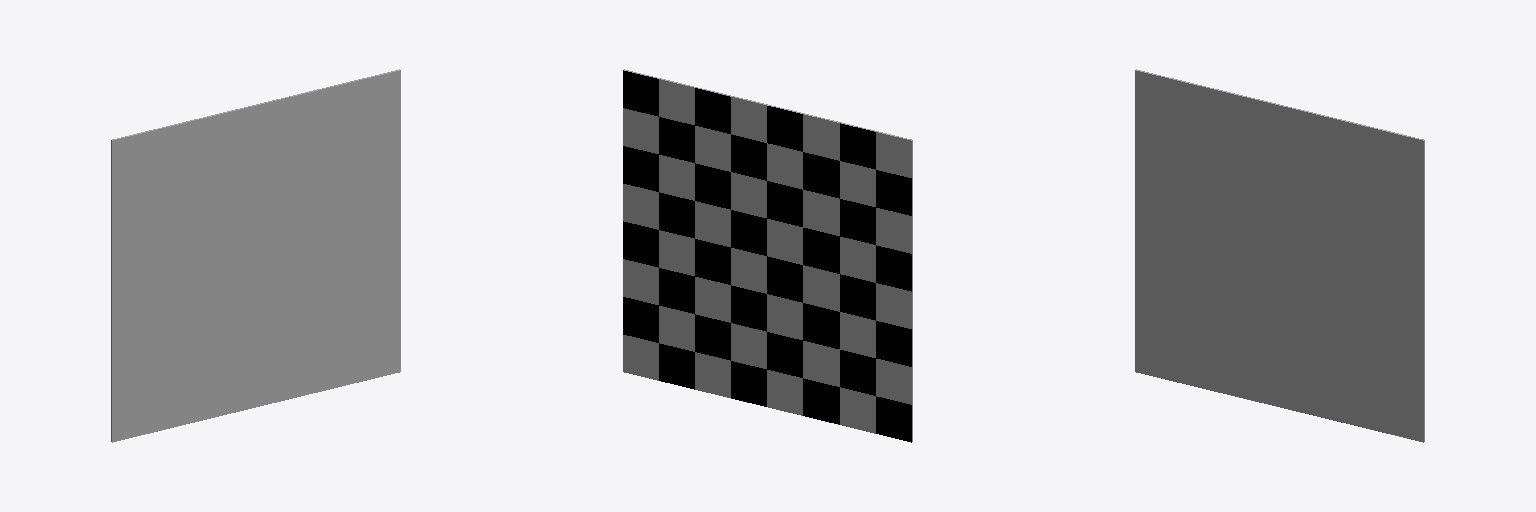
File: board.obj
3 renders of one model, left to right at view 1: azimuth 30°, elevation 25°; view 2: azimuth 150°, elevation 25°; view 3: azimuth 330°, elevation 25°, orthographic.
Parts seen in each view (by area): view 1: board_Cube; view 2: board_Cube; view 3: board_Cube.
Part boxes in pixels (x1,y1,x2,y2): board_Cube: (111,69,400,442); board_Cube: (623,69,912,442); board_Cube: (1135,69,1424,442).
Size of the model in its own units: 62.45 by 62.45 by 0.4481.